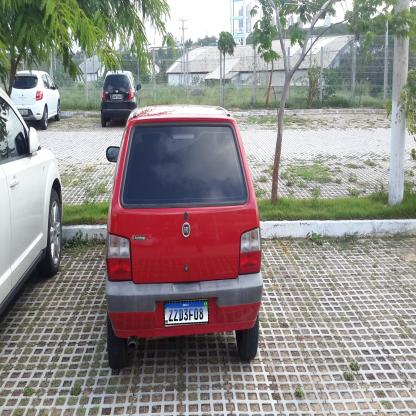PlacaM: (164, 300, 209, 325)
